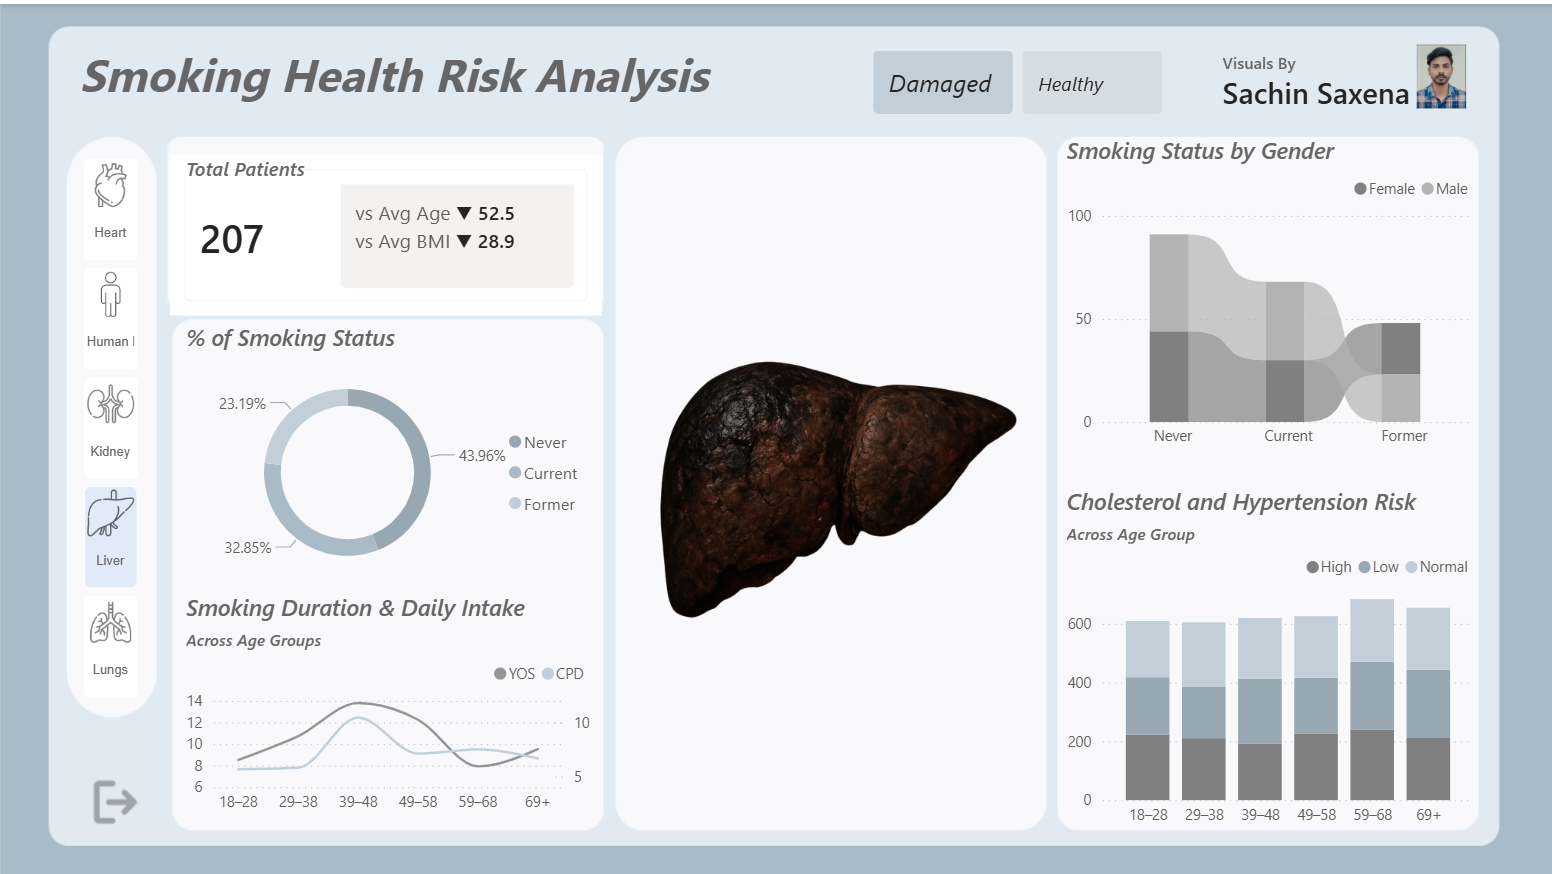

What the dashboard file says about the page in this screenshot:
{"tool":"powerbi","page":{"name":"Page 1","canvas":[1280,720],"ordinal":0},"visuals":[{"type":"cardVisual","fields":{"Data":["CountNonNull(health_dataset.Patient_ID)"]},"box":[134.8,118.1,366.4,143.8],"z":0},{"type":"textbox","box":[148.4,118.1,249.8,57.5],"z":1000},{"type":"advancedSlicerVisual","fields":{"Values":["condition.Organ_Condition"]},"box":[714.7,33.3,249.8,62.1],"z":2000},{"type":"image","box":[513.3,118.1,346.8,557.2],"z":3000},{"type":"ChicletSlicer1448559807354","fields":{"Category":["Organs.Organ"],"Image":["Organs.Icon_URL"]},"box":[60.6,118.1,74.2,475.5],"z":4000},{"type":"donutChart","title":"% of Smoking Status","fields":{"Category":["health_dataset.Smoking_Status"],"Y":["CountNonNull(health_dataset.Smoking_Status)"]},"box":[148.4,262,342.2,222.6],"z":5000},{"type":"lineChart","title":"Smoking Duration & Daily Intake","fields":{"Category":["health_dataset.Age Group"],"Y":["Avg(health_dataset.Years_of_Smoking)"],"Y2":["Avg(health_dataset.Cigarettes_Per_Day)"]},"box":[148.4,484.5,342.2,190.8],"z":6000},{"type":"ribbonChart","title":"Smoking Status by Gender","fields":{"Category":["health_dataset.Smoking_Status"],"Y":["CountNonNull(health_dataset.Patient_ID)"],"Series":["health_dataset.Gender"]},"box":[873.7,107.5,345.2,266.5],"z":7000},{"type":"columnChart","title":"Cholesterol and Hypertension Risk","fields":{"Category":["health_dataset.Age Group"],"Y":["Avg(health_dataset.Cholesterol_Level)"],"Series":["health_dataset.BP_Risk"]},"box":[873.7,396.7,345.2,289.2],"z":8000},{"type":"textbox","box":[60.6,27.3,579.9,80.3],"z":9000},{"type":"textbox","box":[1002.4,33.3,277.1,307.4],"z":10000},{"type":"image","box":[1141.7,33.3,90.9,53],"z":11000}]}

Visuals, with their boxes in screenshot pixels (x1, y1, x2, y2), scaled from the page's 1280x720 canvas onto the 1552x874 screenshot:
cardVisual - CountNonNull(health_dataset.Patient_ID): BBox(163, 143, 608, 318)
textbox: BBox(180, 143, 483, 213)
advancedSlicerVisual - condition.Organ_Condition: BBox(867, 40, 1169, 116)
image: BBox(622, 143, 1043, 820)
ChicletSlicer1448559807354 - Organs.Organ x Organs.Icon_URL: BBox(73, 143, 163, 721)
"% of Smoking Status" donutChart: BBox(180, 318, 595, 588)
"Smoking Duration & Daily Intake" lineChart: BBox(180, 588, 595, 820)
"Smoking Status by Gender" ribbonChart: BBox(1059, 130, 1478, 454)
"Cholesterol and Hypertension Risk" columnChart: BBox(1059, 482, 1478, 833)
textbox: BBox(73, 33, 777, 131)
textbox: BBox(1215, 40, 1551, 414)
image: BBox(1384, 40, 1495, 105)
